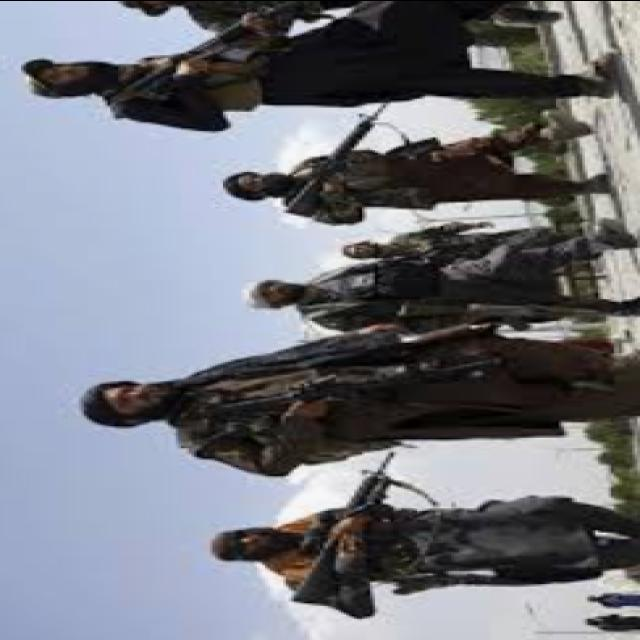terrorist: (81, 324, 640, 476), (19, 0, 622, 132), (210, 448, 640, 618), (223, 101, 609, 224), (247, 216, 640, 335), (341, 220, 546, 262), (119, 0, 358, 32), (588, 613, 640, 629), (584, 592, 640, 606)
